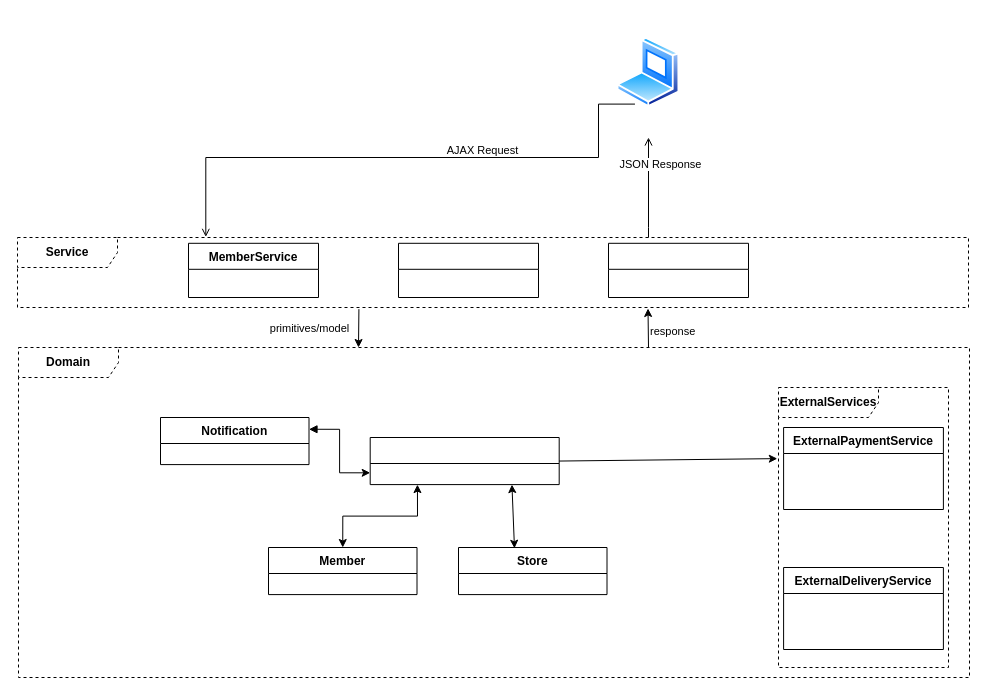
Image size: 987x695. Some labels were removed from this diagram. The centre of each missing label's shape, as x and y in pixels:
Client: [648,72]
Market: [464,460]
StoreService: [678,270]
TransactionService: [468,270]
